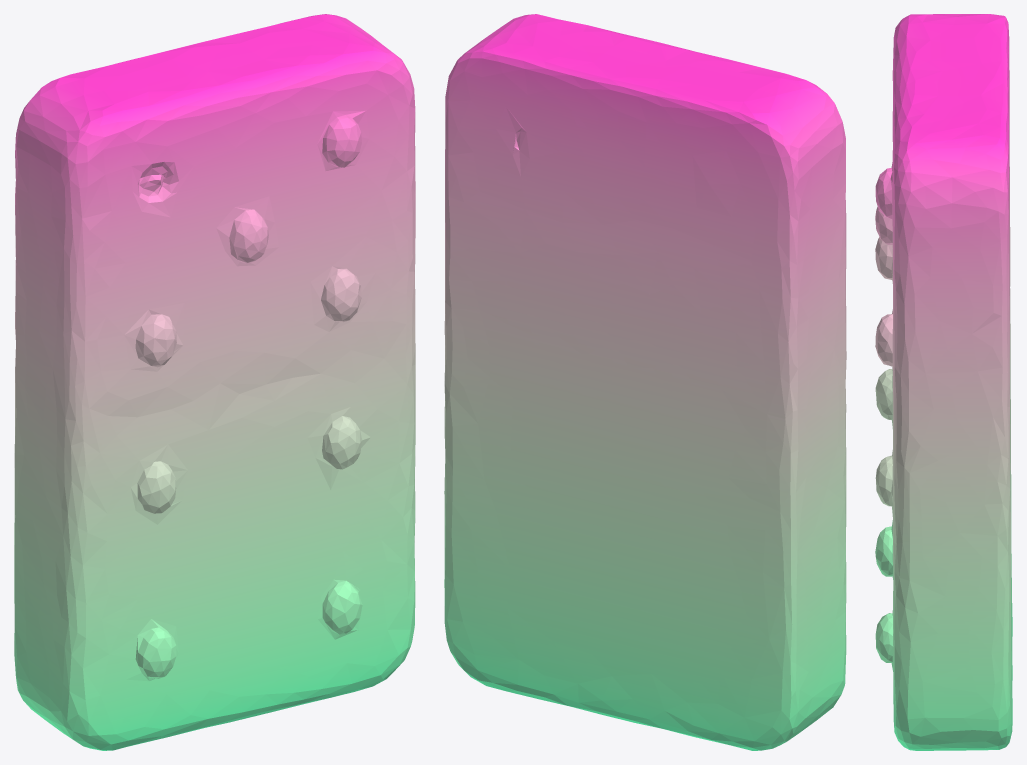
The model's file is 62_cyb_laser_gradient_fish_scales_2818_2026_10_03_98e8f4.glb.
3 renders of one model, left to right at view 1: azimuth 30°, elevation 25°; view 2: azimuth 150°, elevation 25°; view 3: azimuth 270°, elevation 25°, orthographic. The views are drawn at different scales.
Visible parts, largest first — view 1: geometry_0; view 2: geometry_0; view 3: geometry_0.
Boxes of the visible parts, <box> form: geometry_0: <box>14,14,415,750</box>; geometry_0: <box>444,14,846,750</box>; geometry_0: <box>875,14,1012,750</box>.
Bounding box in the file's own units: 0.5608 × 0.9725 × 0.1984.
